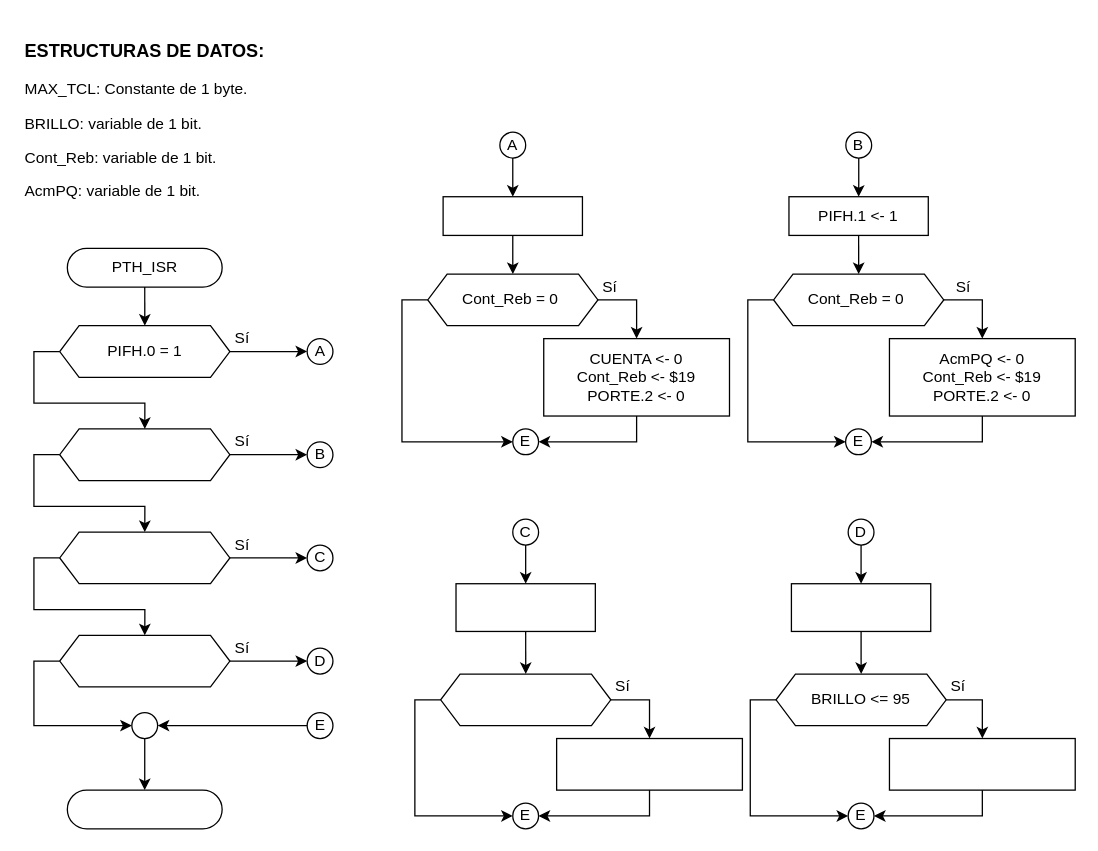
Image size: 1098x851. Some labels were removed from this diagram. Each missing label, with the box of its shape:
BRILLO <- (BRILLO) + 5: (888, 737, 1075, 790)
BRILLO <- (BRILLO) - 5: (555, 737, 742, 790)
BRILLO >= 5: (439, 673, 611, 726)
PIFH.0 <- 1: (442, 195, 582, 235)
PIFH.1 = 1: (58, 428, 230, 481)
PIFH.2 <- 1: (455, 582, 595, 631)
PIFH.2 = 1: (58, 531, 230, 584)
PIFH.3 <- 1: (790, 582, 931, 631)
PIFH.3 = 1: (58, 634, 230, 687)
RETORNAR: (66, 789, 222, 829)
